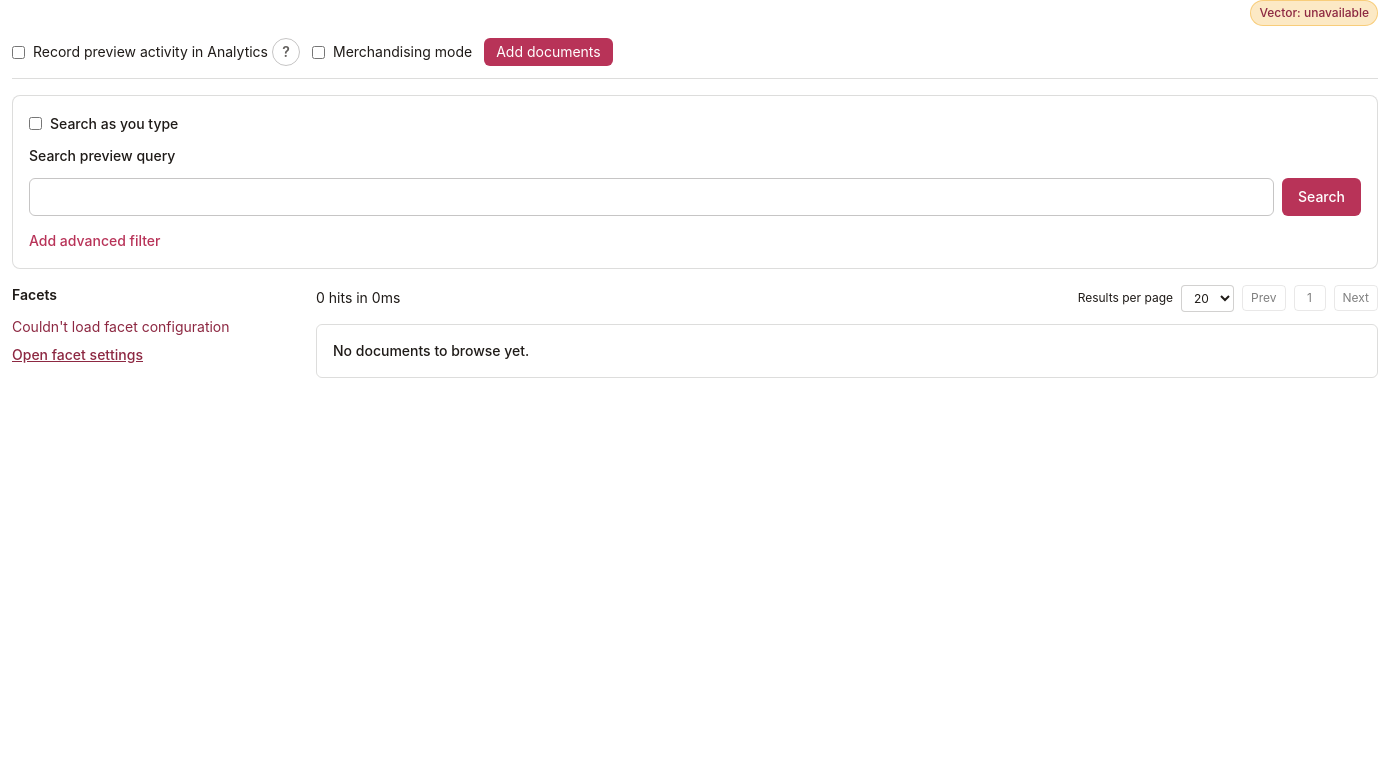
InstantSearch › renders an authenticated search error with a working Retry action
Type "session search query" into the search field labelled "Search preview query" at (652, 196), box [29,178,1274,216]
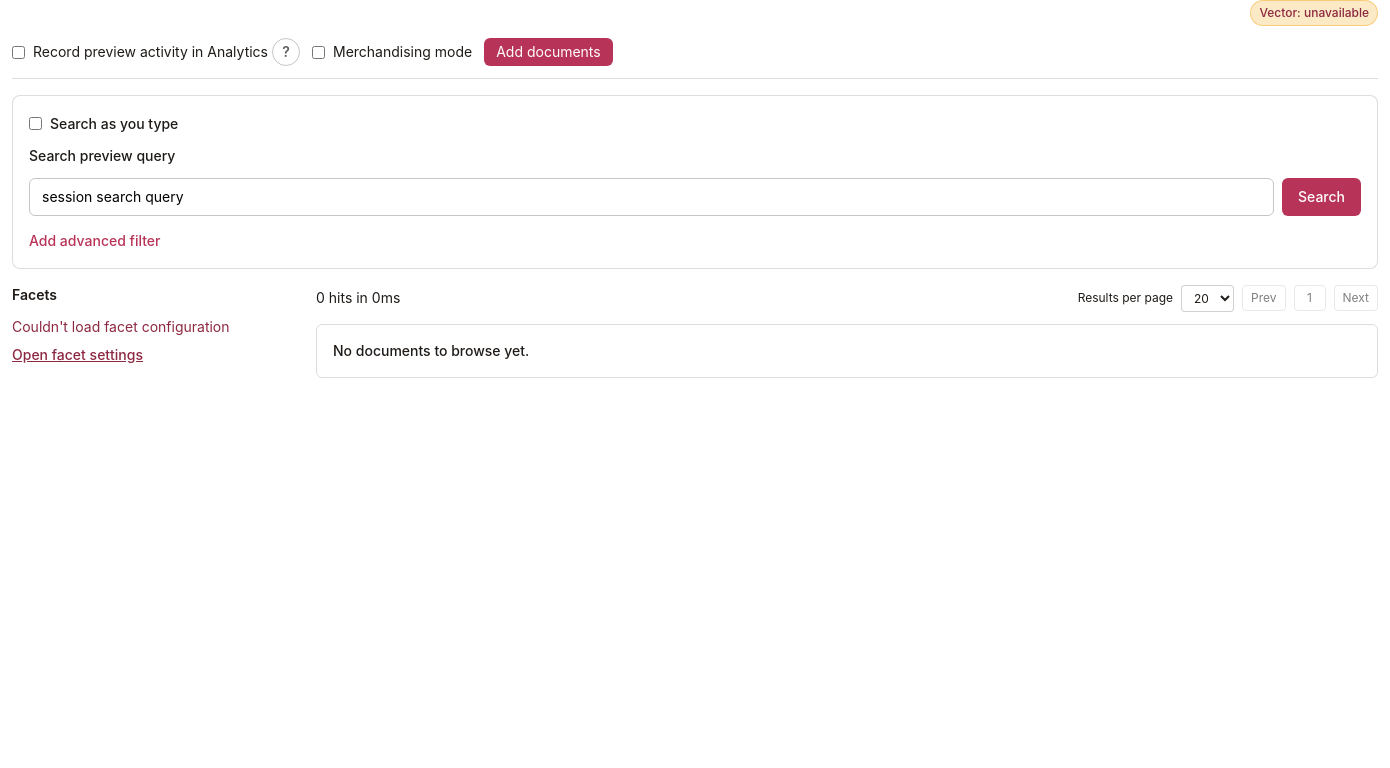
Press Enter in the search field labelled "Search preview query", box [29,178,1274,216]
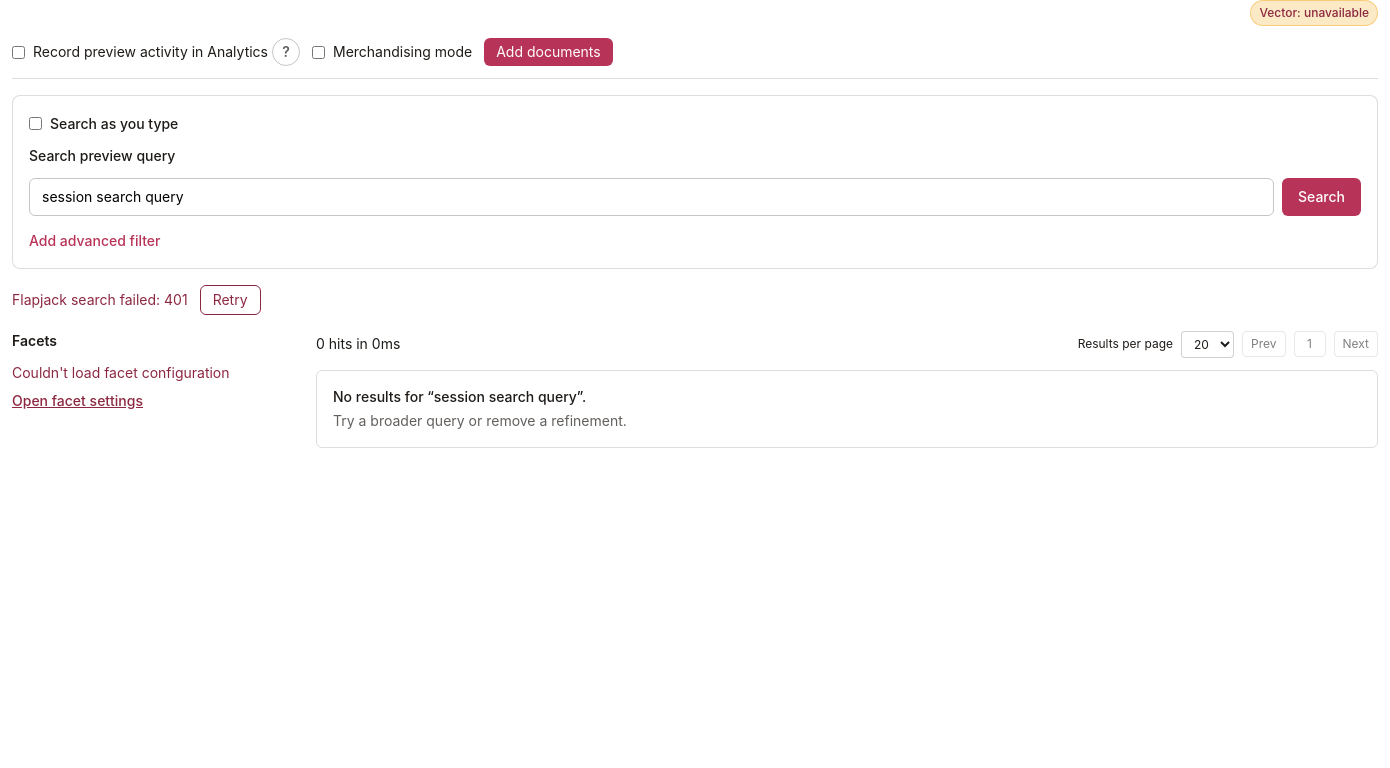
Check: the message shows "Flapjack search failed: 401", box [12,290,188,308]
Click the button "Retry" at (230, 300), box [200,284,261,314]
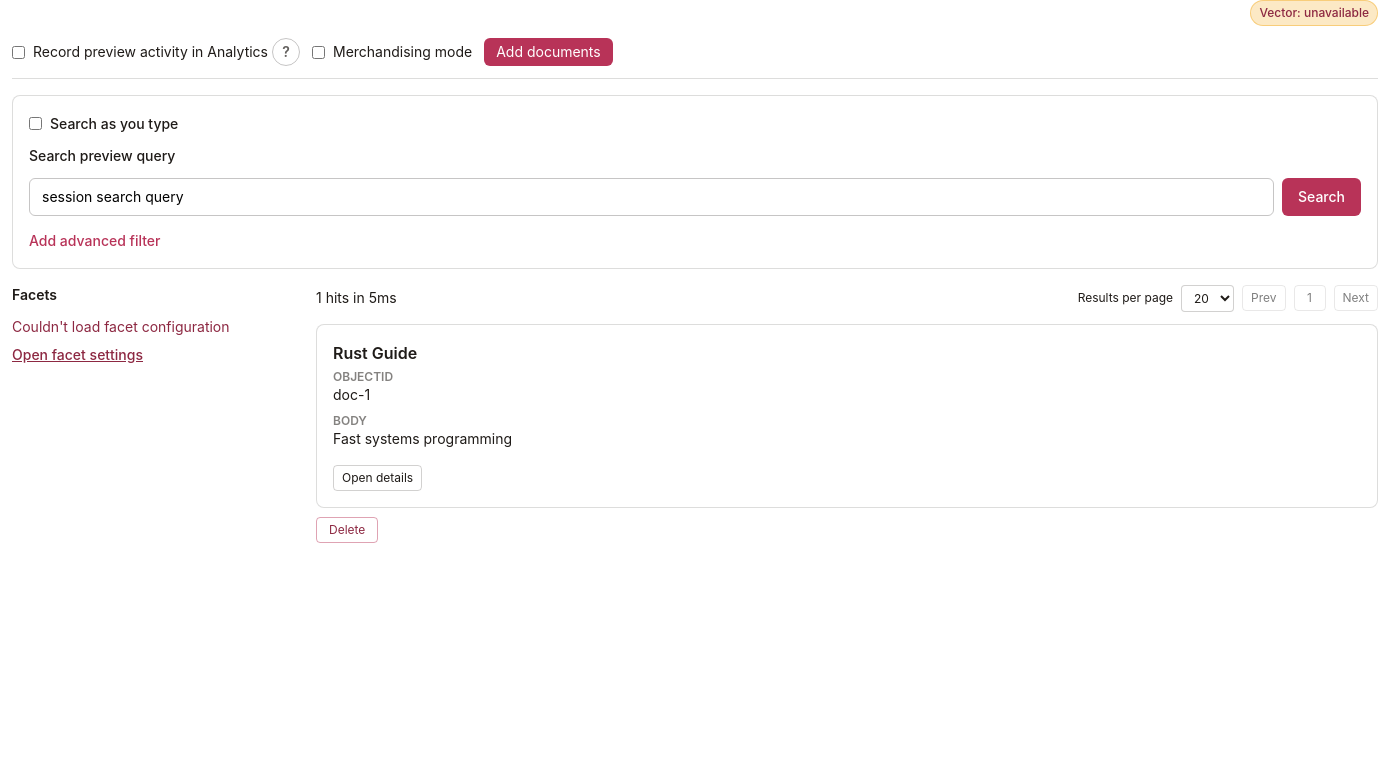
Check: the text "Rust Guide" is shown, box [333,342,417,362]
